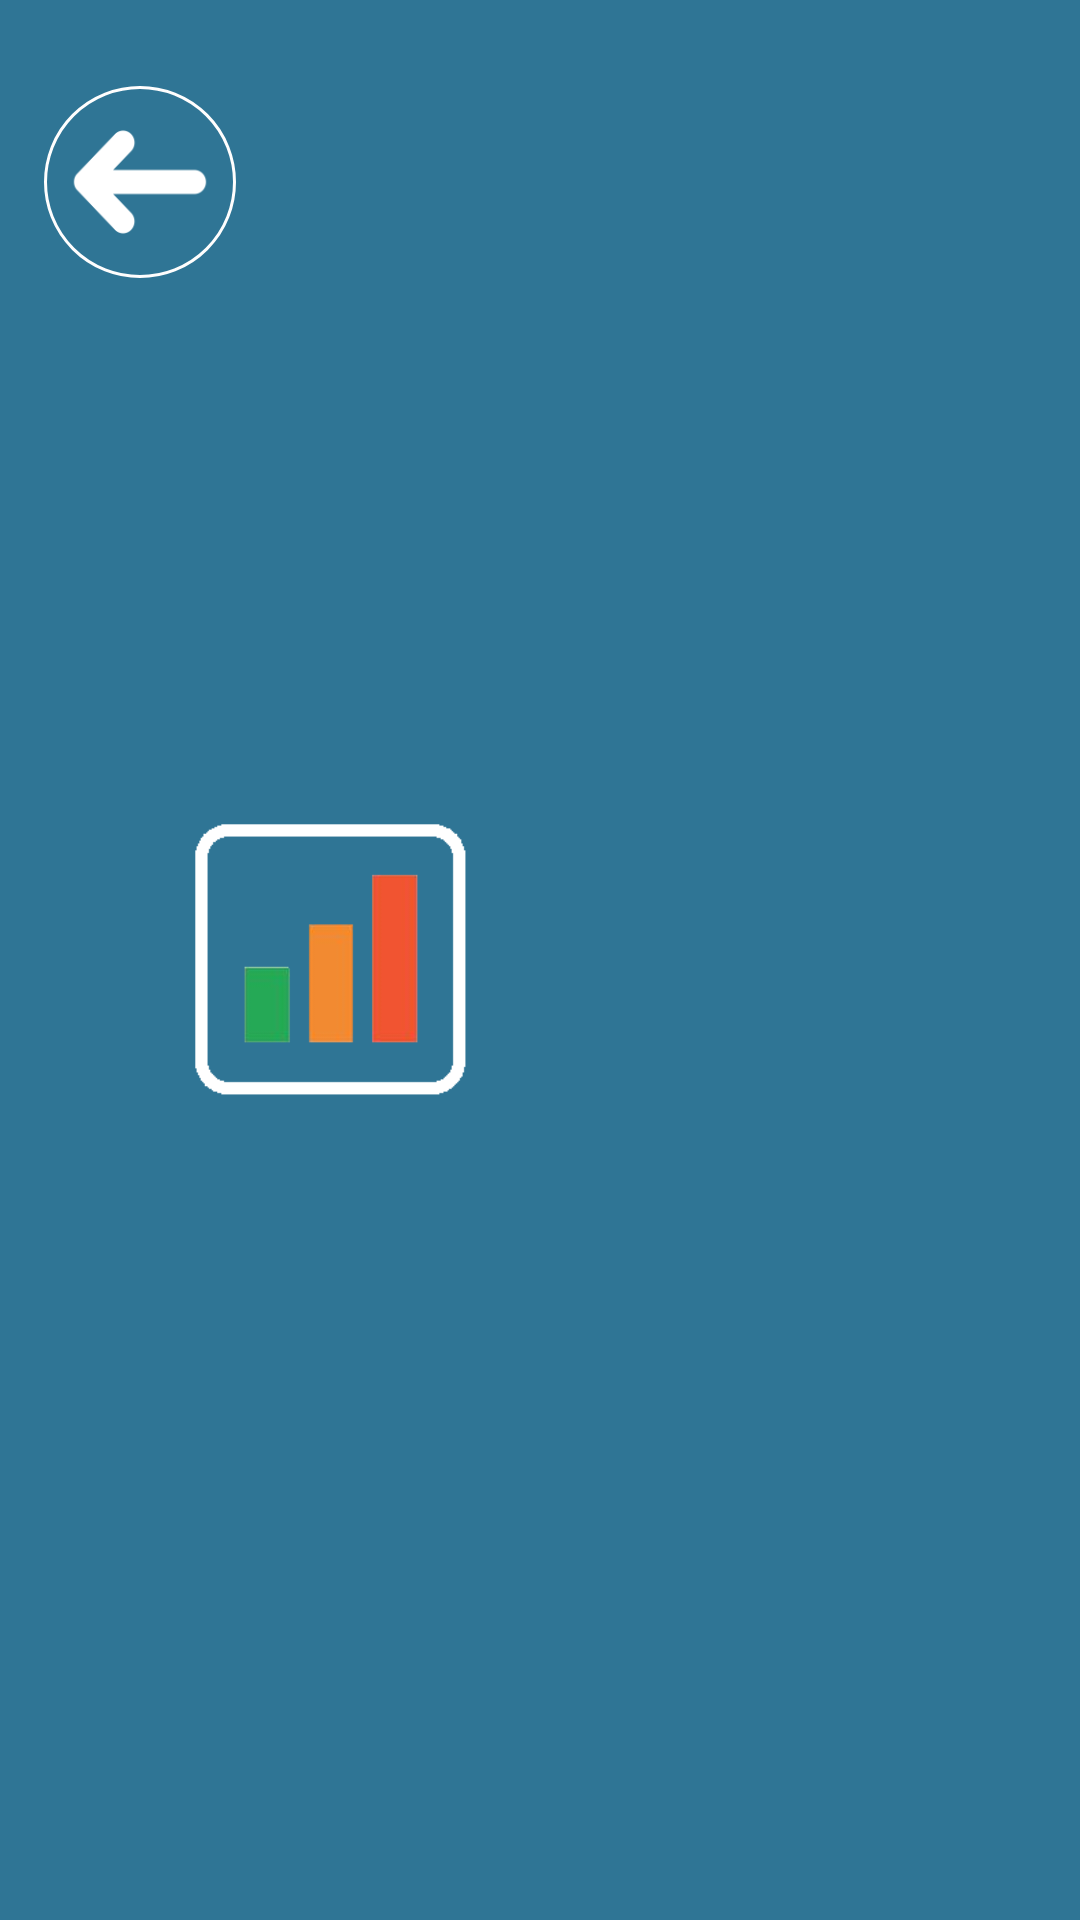

Point at icon controls on the screen. Image size 1080*1920, points as (x,y).
arrowback: (140,182)
